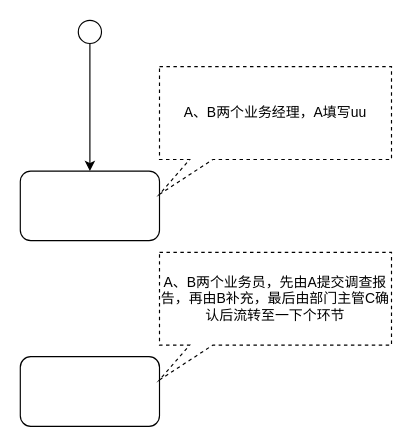
Some shapes in this 412 by 447 pixel diagram are drawn without their labels. The shapes that lost their labels are listed below. From the top down, each one's box as (x1, y1, x2, y2) in pixels, then its label:
(19, 170, 160, 241): 立项
(19, 356, 160, 426): 尽职调查
